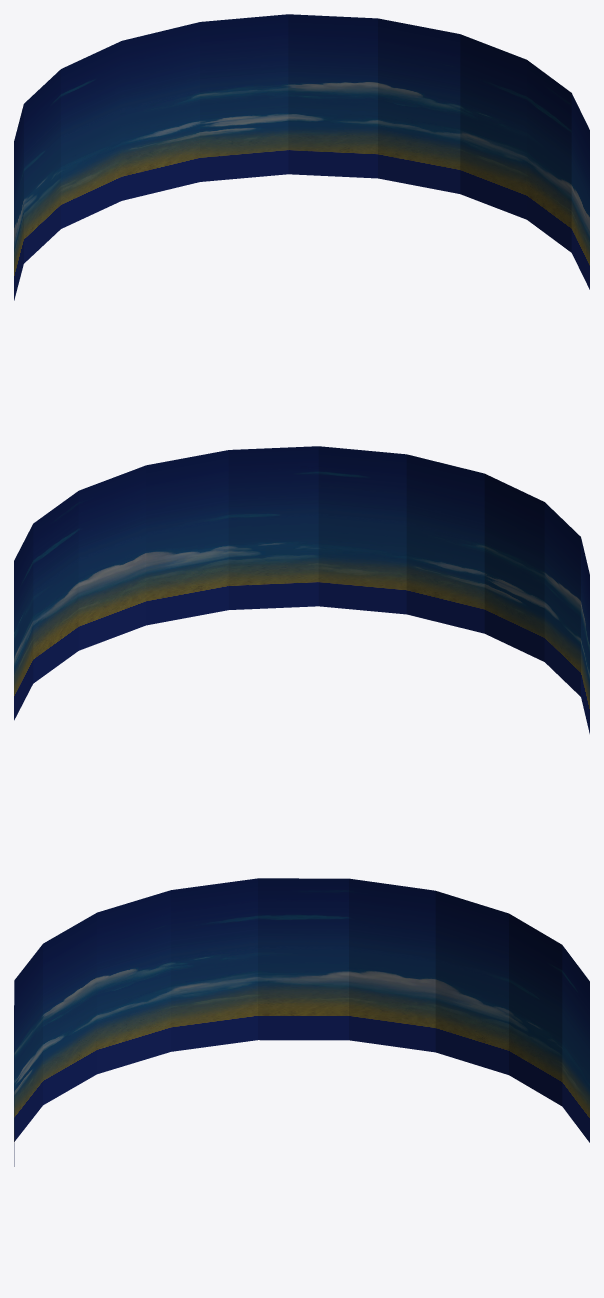
File: vrcorn.glb
The picture shows the model from 3 angles, top to bottom: view 1: azimuth 30°, elevation 25°; view 2: azimuth 150°, elevation 25°; view 3: azimuth 270°, elevation 25°; orthographic projection.
Parts seen in each view (by area): view 1: polygon0; view 2: polygon0; view 3: polygon0.
Boxes of the visible parts, x1=… form: polygon0: x1=14, y1=14, x2=589, y2=300; polygon0: x1=14, y1=446, x2=589, y2=733; polygon0: x1=14, y1=878, x2=589, y2=1166.
Size of the model in its own units: 2674 by 1137 by 2674.
1 material, 1 textured.
